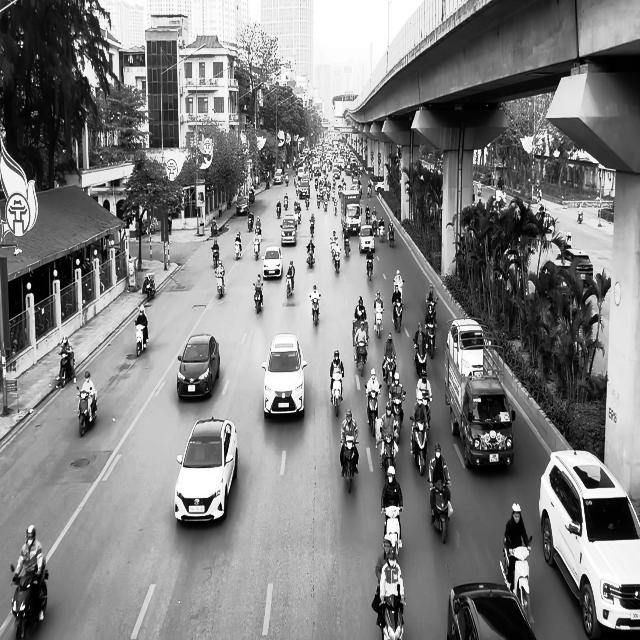car: (538, 448, 640, 638), (174, 416, 238, 524), (446, 582, 537, 640), (261, 332, 307, 418), (176, 334, 220, 399), (262, 245, 284, 280), (280, 216, 297, 246), (358, 225, 375, 253), (236, 196, 248, 215)
motorbike: (10, 560, 48, 640), (502, 534, 534, 624), (428, 479, 451, 544), (381, 506, 403, 561), (76, 385, 98, 437), (340, 437, 358, 493), (380, 598, 404, 640), (364, 383, 381, 435), (56, 351, 76, 388), (330, 371, 343, 417), (354, 339, 368, 376), (424, 321, 437, 359), (135, 322, 148, 357), (309, 294, 320, 326), (392, 300, 403, 332), (373, 306, 384, 338), (253, 283, 263, 313), (145, 273, 155, 301), (215, 271, 225, 298), (306, 240, 315, 267), (331, 247, 340, 274), (366, 253, 374, 280), (286, 272, 294, 298), (253, 235, 261, 260), (343, 234, 351, 257), (234, 239, 242, 260), (387, 226, 395, 247), (212, 248, 219, 269), (247, 212, 254, 232), (276, 202, 281, 218)
truck: (443, 317, 516, 469)
